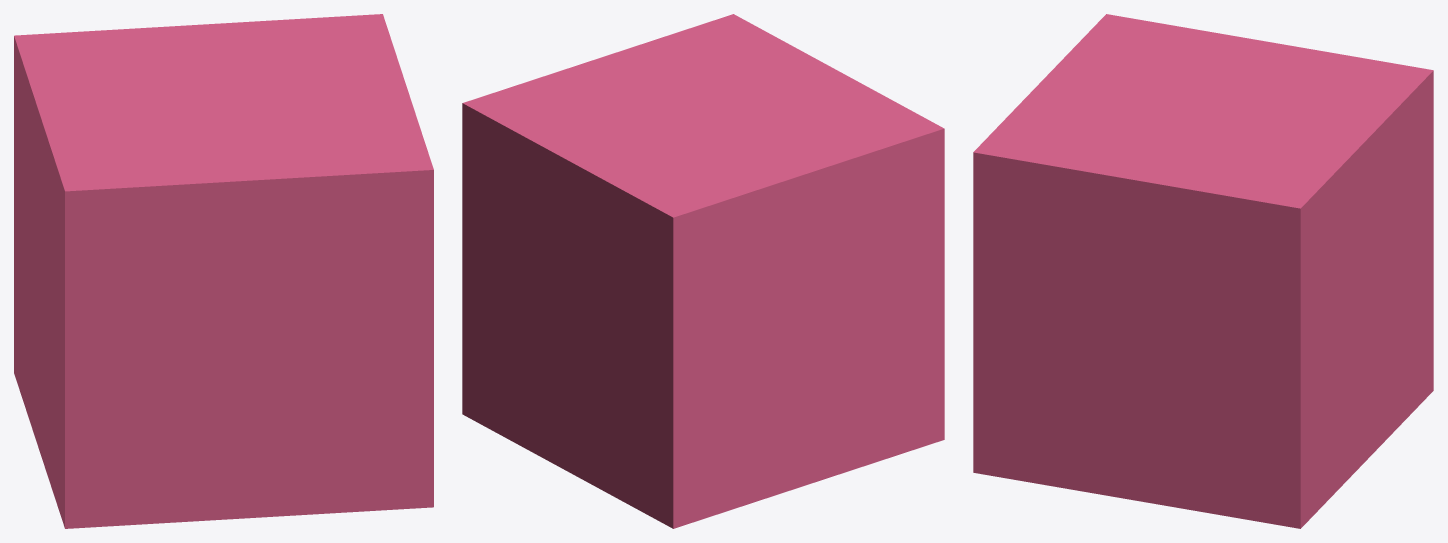
File: obstacle.glb
3 renders of one model, left to right at view 1: azimuth 30°, elevation 25°; view 2: azimuth 150°, elevation 25°; view 3: azimuth 270°, elevation 25°, orthographic. The views are drawn at different scales.
Visible parts, largest first — view 1: Cube; view 2: Cube; view 3: Cube.
Part boxes in pixels (bbox=[...]): Cube: bbox=[14, 14, 433, 528]; Cube: bbox=[462, 14, 944, 528]; Cube: bbox=[973, 14, 1433, 528].
Size of the model in its own units: 2.61 by 2 by 2.61.
